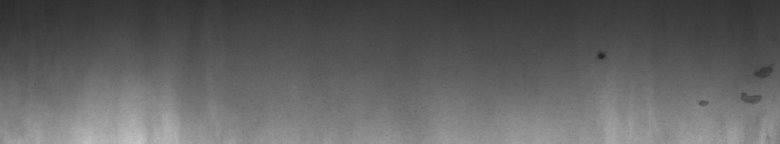fi: (698, 60, 776, 112)
